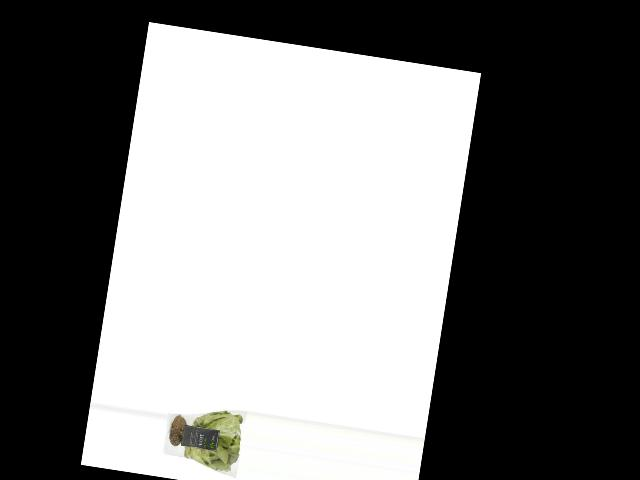lettuce: (160, 399, 246, 476)
